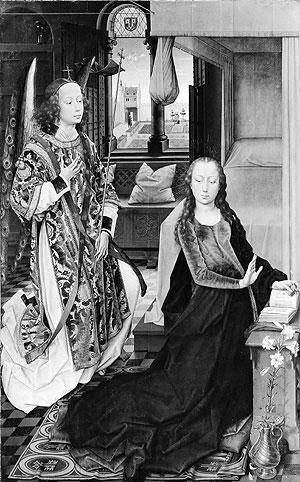person: (82, 153, 286, 449), (7, 77, 131, 389)
